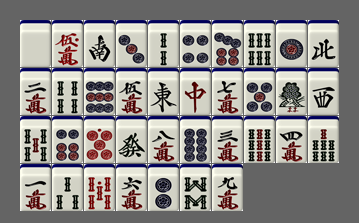0m: (52, 20, 83, 67)
0p: (84, 116, 115, 163)
0s: (84, 164, 115, 211)
1m: (20, 164, 51, 211)
1p: (276, 20, 307, 67)
1s: (276, 68, 307, 115)
1z: (148, 68, 179, 115)
2m: (20, 68, 51, 115)
2p: (148, 164, 179, 211)
2s: (148, 20, 179, 67)
2z: (84, 20, 115, 67)
3m: (212, 116, 243, 163)
3p: (116, 20, 147, 67)
3s: (52, 164, 83, 211)
3z: (308, 68, 339, 115)
4m: (276, 116, 307, 163)
4p: (180, 20, 211, 67)
4s: (52, 68, 83, 115)
4z: (308, 20, 339, 67)
5m: (116, 68, 147, 115)
5p: (244, 68, 275, 115)
5s: (20, 116, 51, 163)
5z: (20, 20, 51, 67)
6m: (116, 164, 147, 211)
6p: (52, 116, 83, 163)
6s: (244, 20, 275, 67)
6z: (116, 116, 147, 163)
7m: (212, 68, 243, 115)
7p: (212, 20, 243, 67)
7s: (308, 116, 339, 163)
7z: (180, 68, 211, 115)
8m: (148, 116, 179, 163)
8p: (180, 116, 211, 163)
8s: (180, 164, 211, 211)
9m: (212, 164, 243, 211)
9p: (84, 68, 115, 115)
9s: (244, 116, 275, 163)
